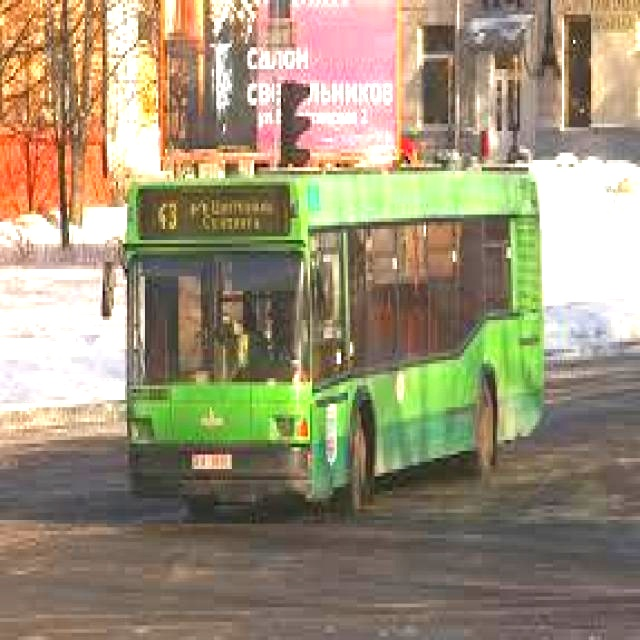bus: (84, 124, 569, 531)
